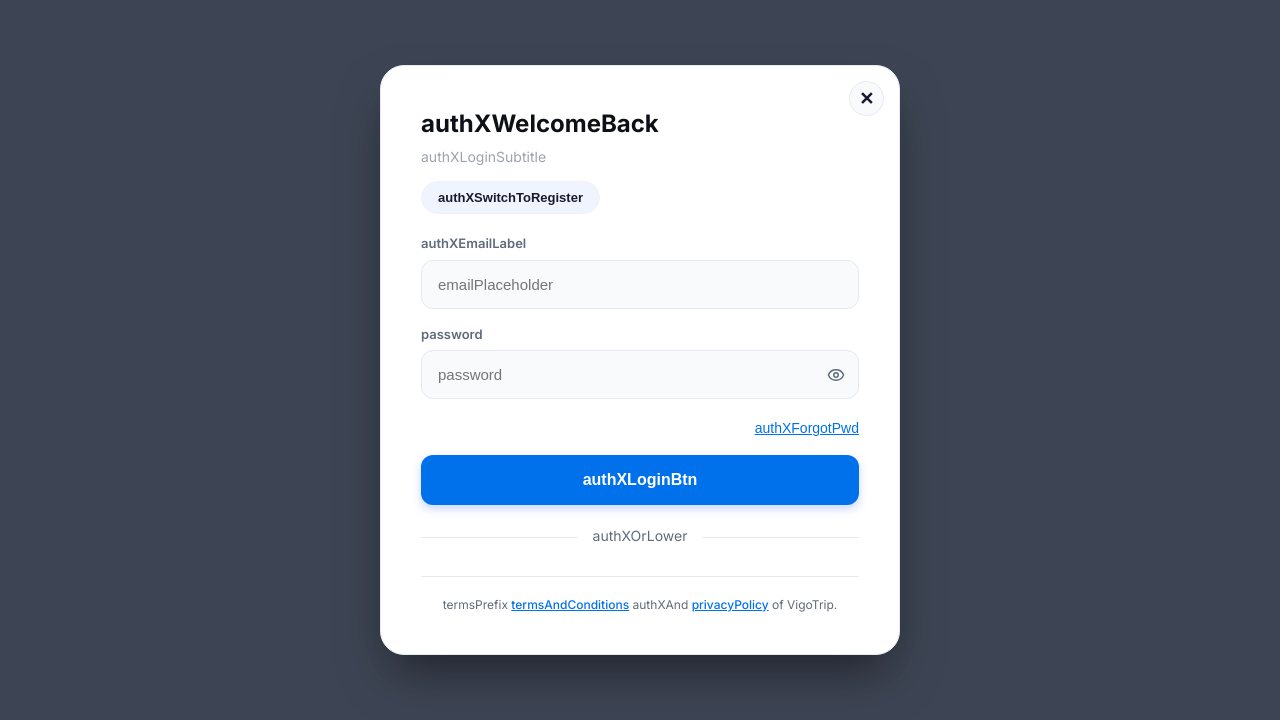
Test: Auth — đăng ký rồi xác thực ngay trong modal › quên mật khẩu chạy trọn vẹn TRONG modal, không rời trang
The width and height of the screenshot is (1280, 720).
Click the button "authXForgotPwd".
click(807, 428)  # box x1=755 y1=420 x2=859 y2=436
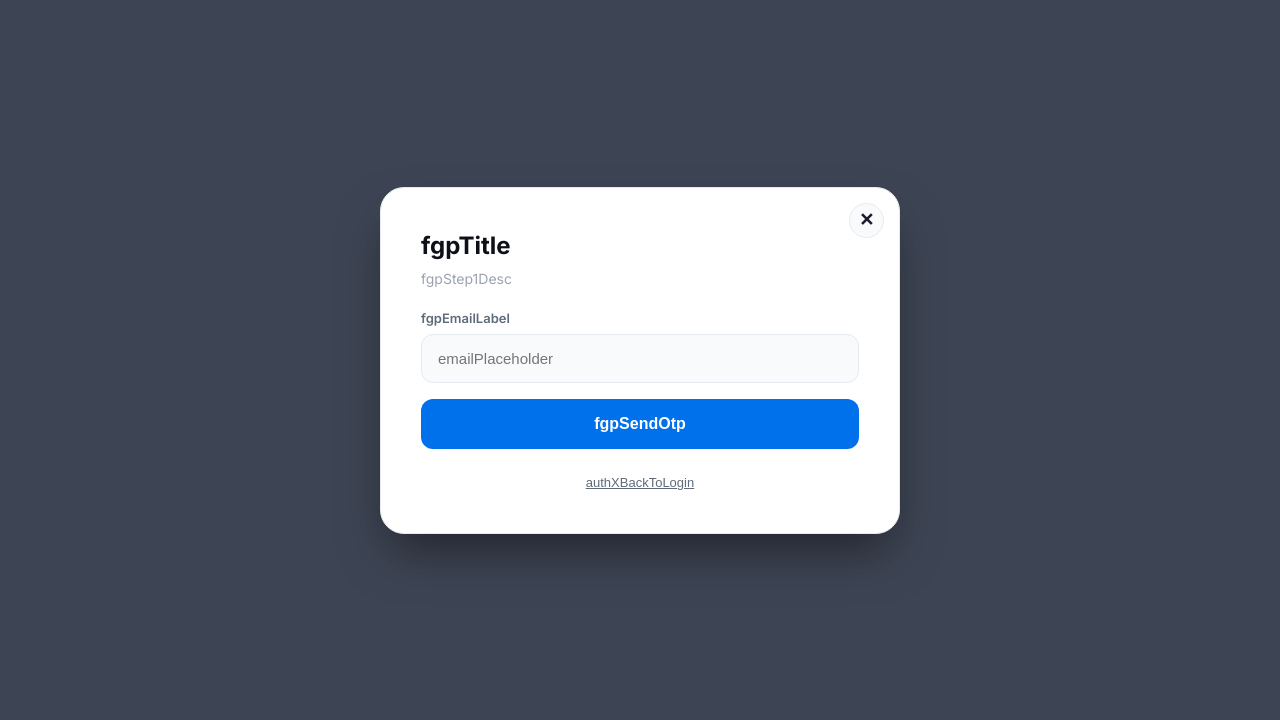
Type "nguoi.dung@gmail.com" into the field named "email".
click(640, 358); type("nguoi.dung@gmail.com")  # box x1=421 y1=334 x2=859 y2=383
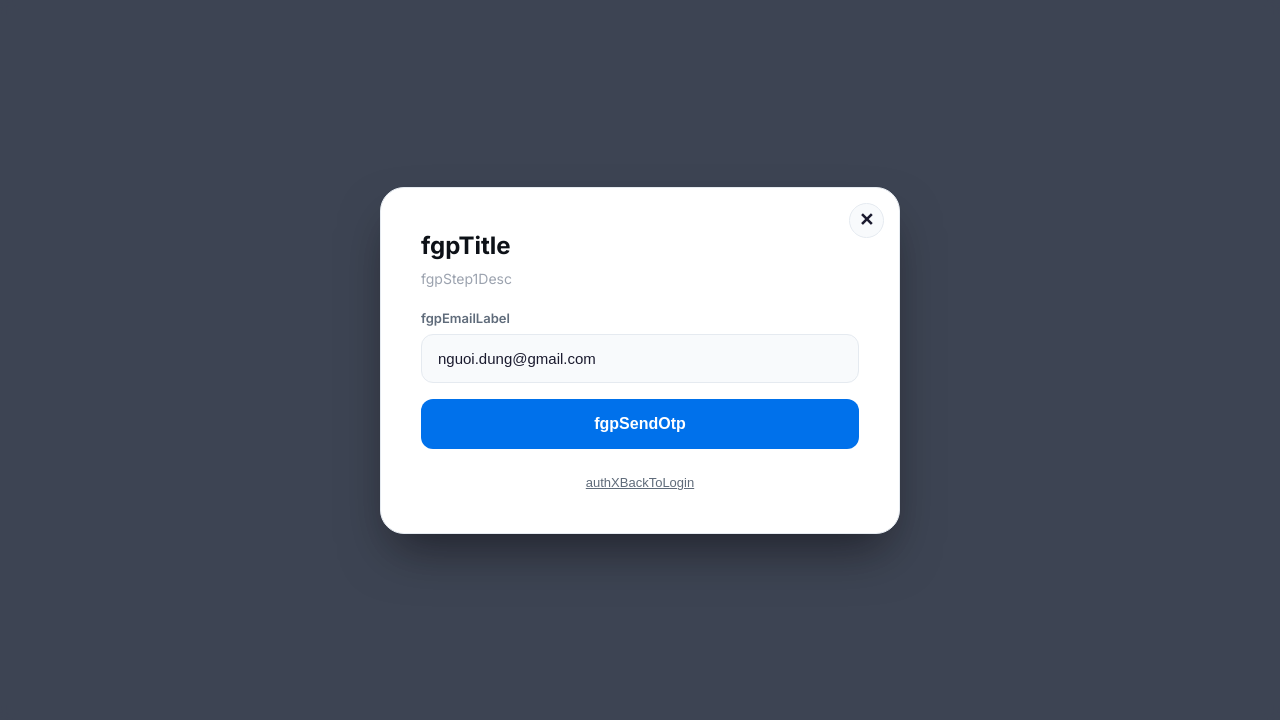
Submit the form named "email", box x1=421 y1=308 x2=859 y2=469
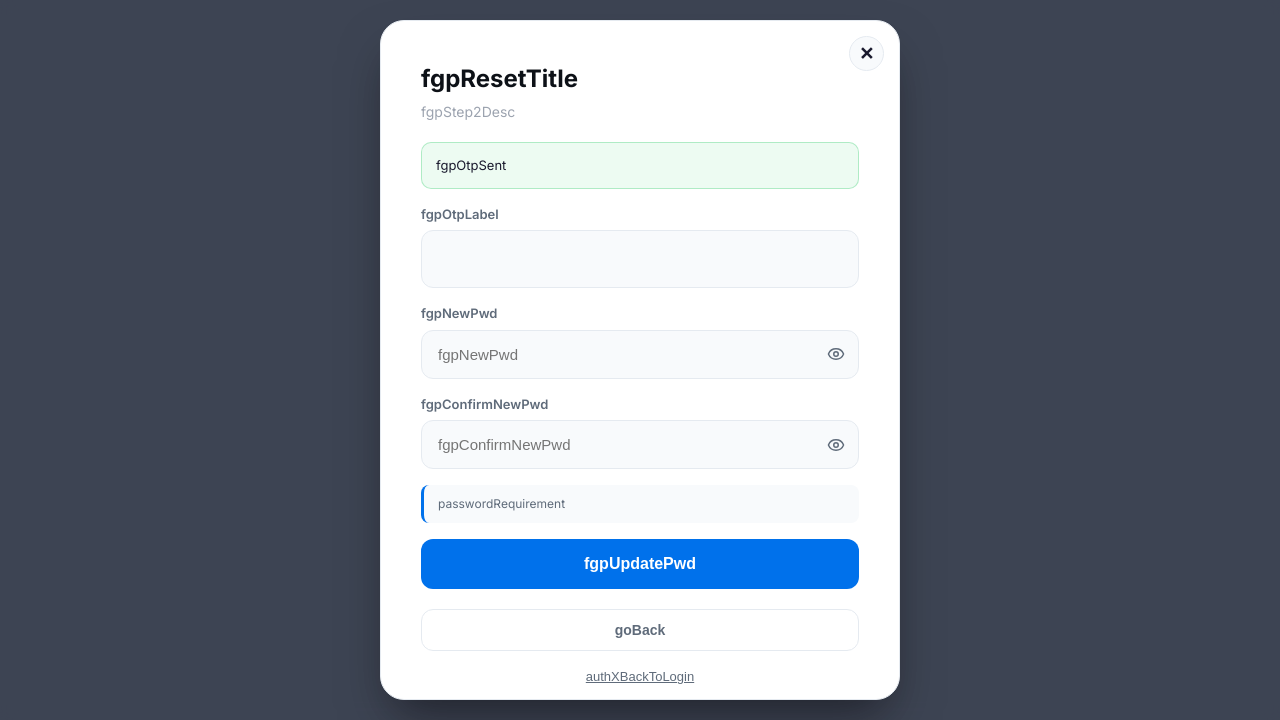
Now the field named "email" is shown
Type "123456" into the field named "email".
click(640, 259); type("123456")  # box x1=421 y1=230 x2=859 y2=288
Type "MatKhau1@" into the password field named "newPassword".
click(640, 354); type("MatKhau1@")  # box x1=421 y1=330 x2=859 y2=379
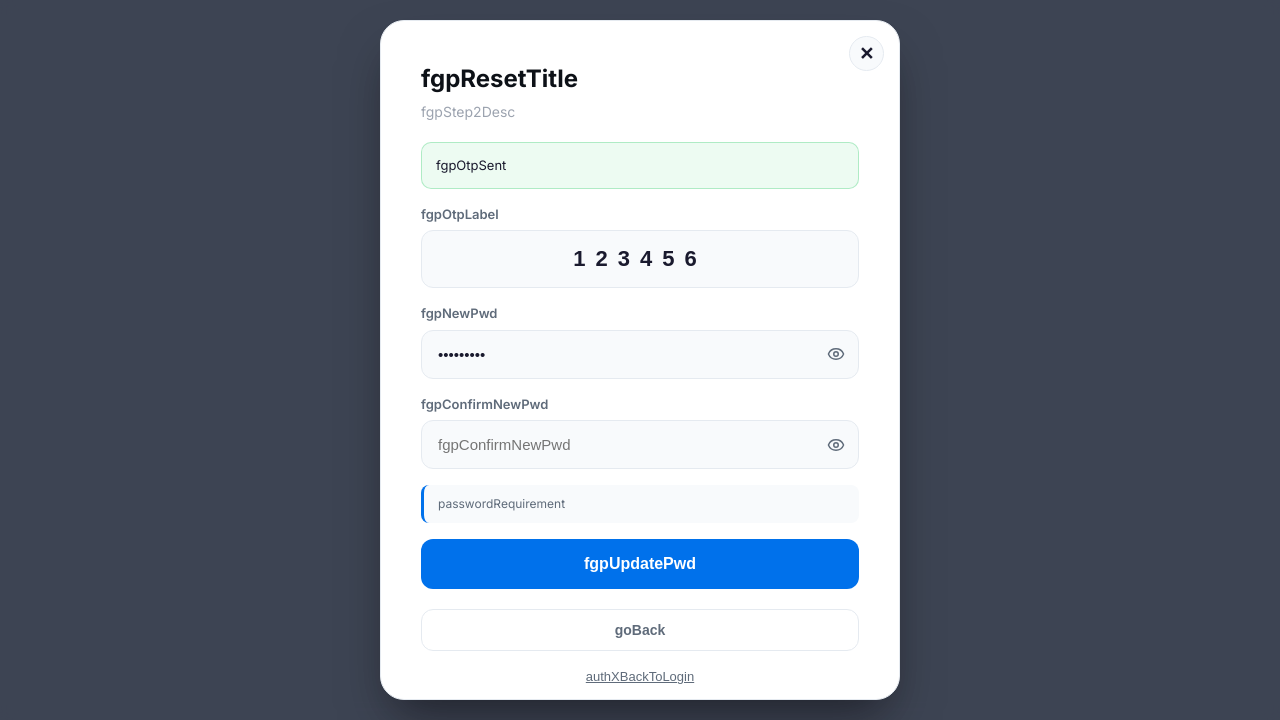
Type "MatKhau1@" into the password field named "confirmPassword".
click(640, 445); type("MatKhau1@")  # box x1=421 y1=420 x2=859 y2=469
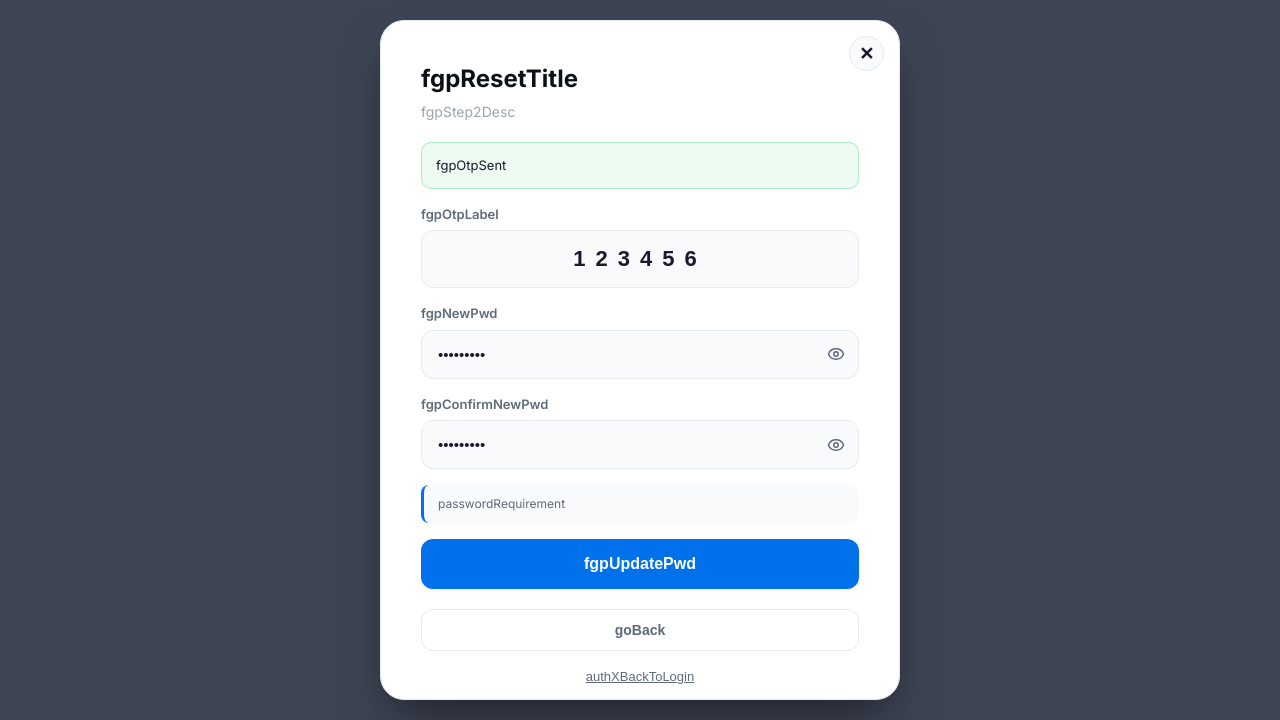
Submit the form named "email", box x1=421 y1=205 x2=859 y2=663
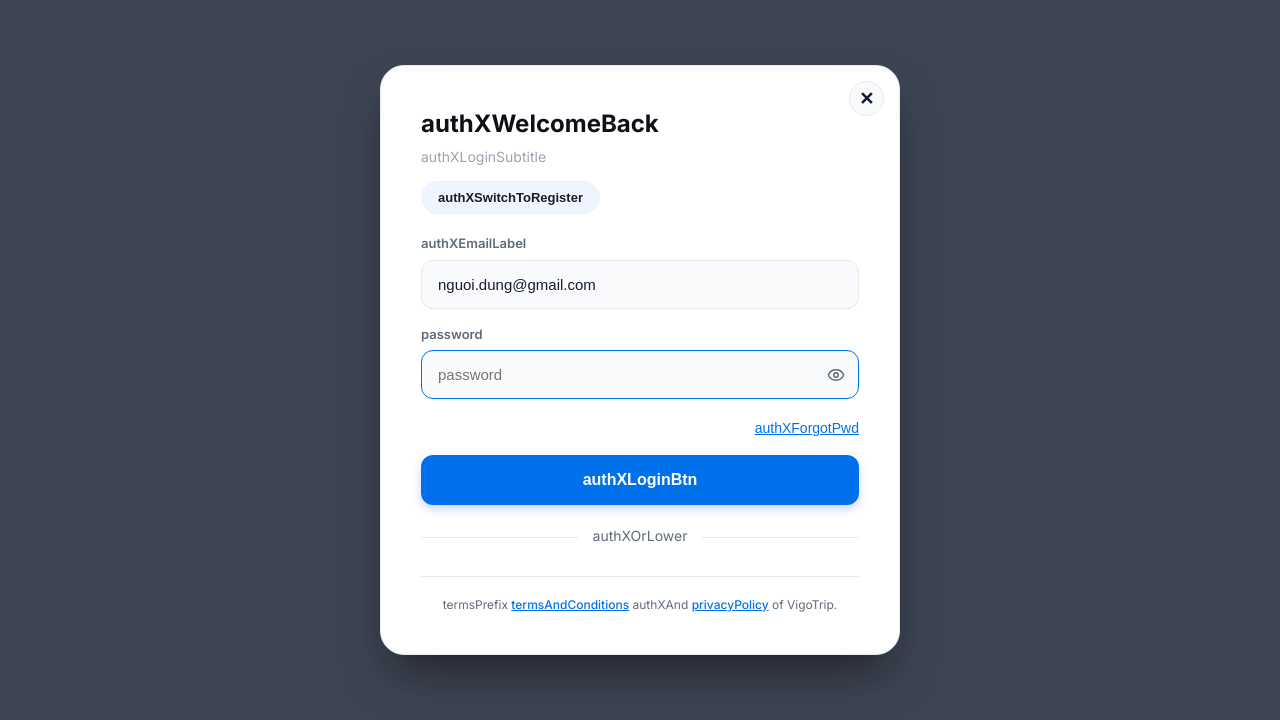
Now the password field named "password" is shown, box x1=421 y1=350 x2=859 y2=399
